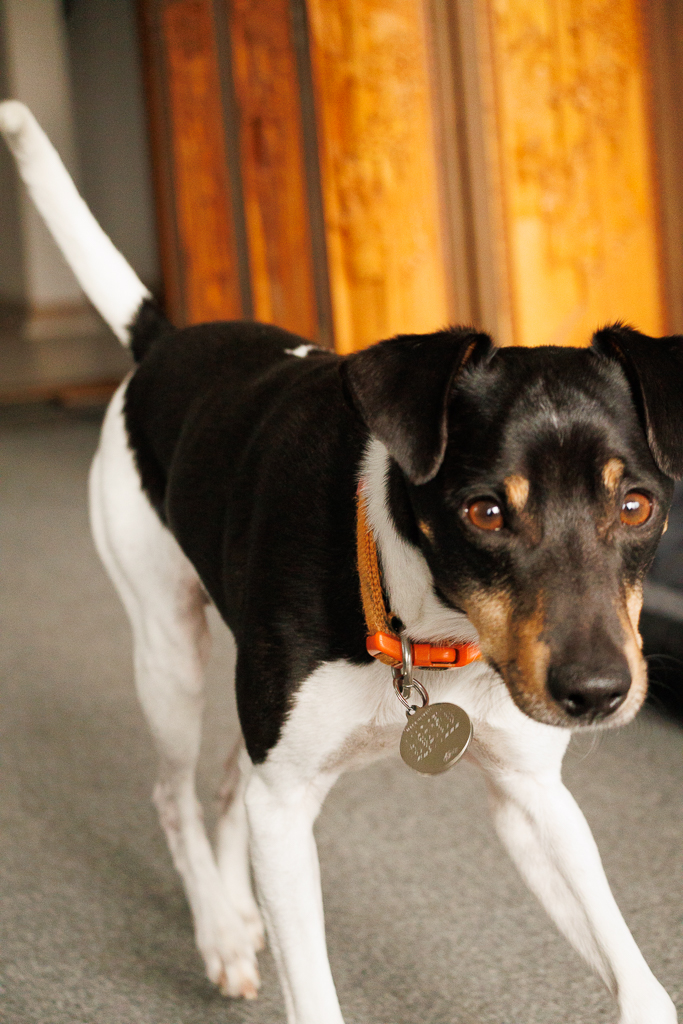Dog: (0, 89, 683, 1024)
